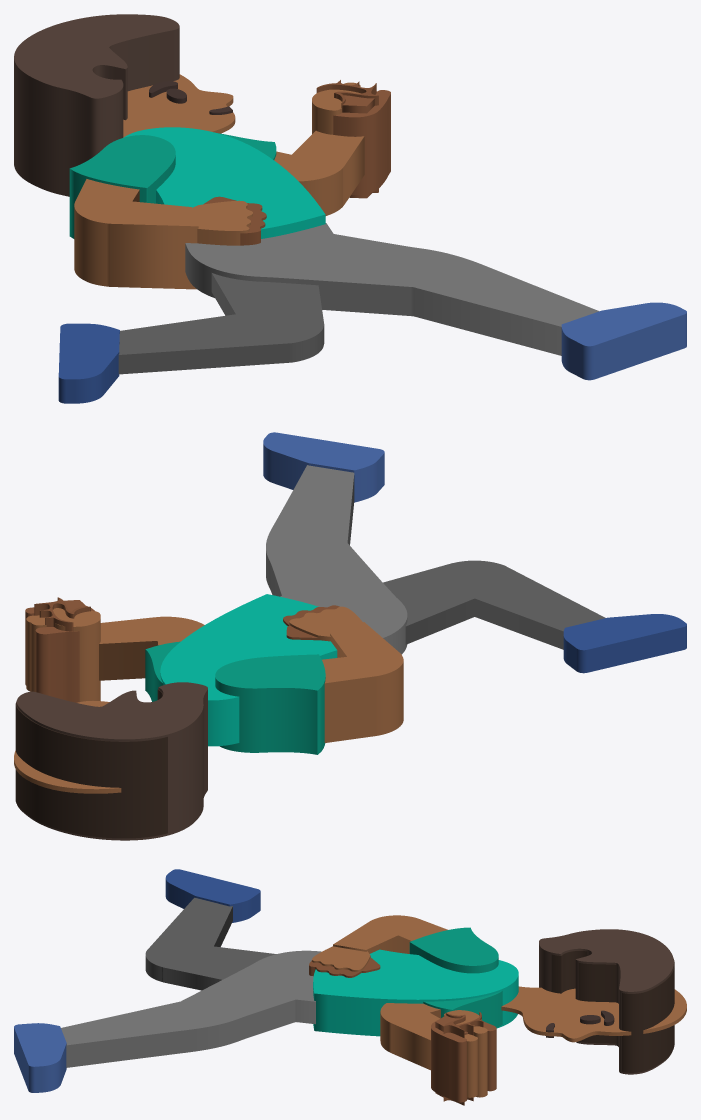
File: emoji_u1f3c3_1f3fe_200d_2642_200d_27a1.glb
3 renders of one model, top to bottom at view 1: azimuth 30°, elevation 25°; view 2: azimuth 150°, elevation 25°; view 3: azimuth 270°, elevation 25°, orthographic. The views are drawn at different scales.
Visible parts, largest first — view 1: emoji_u1f3c3_1f3fe_200d_2642_200d_27a1; view 2: emoji_u1f3c3_1f3fe_200d_2642_200d_27a1; view 3: emoji_u1f3c3_1f3fe_200d_2642_200d_27a1.
Boxes of the visible parts, box(x1,y1,x2,y2) form: emoji_u1f3c3_1f3fe_200d_2642_200d_27a1: box(14, 14, 686, 403); emoji_u1f3c3_1f3fe_200d_2642_200d_27a1: box(14, 432, 686, 840); emoji_u1f3c3_1f3fe_200d_2642_200d_27a1: box(14, 869, 686, 1105).
Bounding box in the file's own units: 0.023 × 0.0044 × 0.0325.
